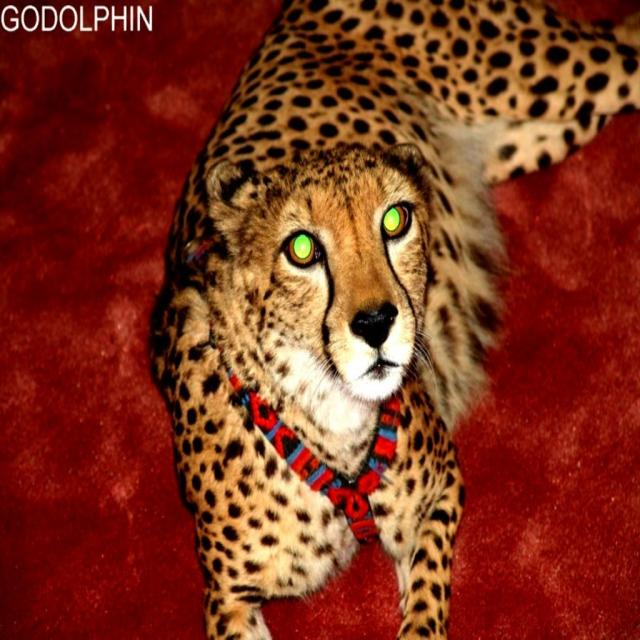Cheetah: (152, 0, 639, 639)
